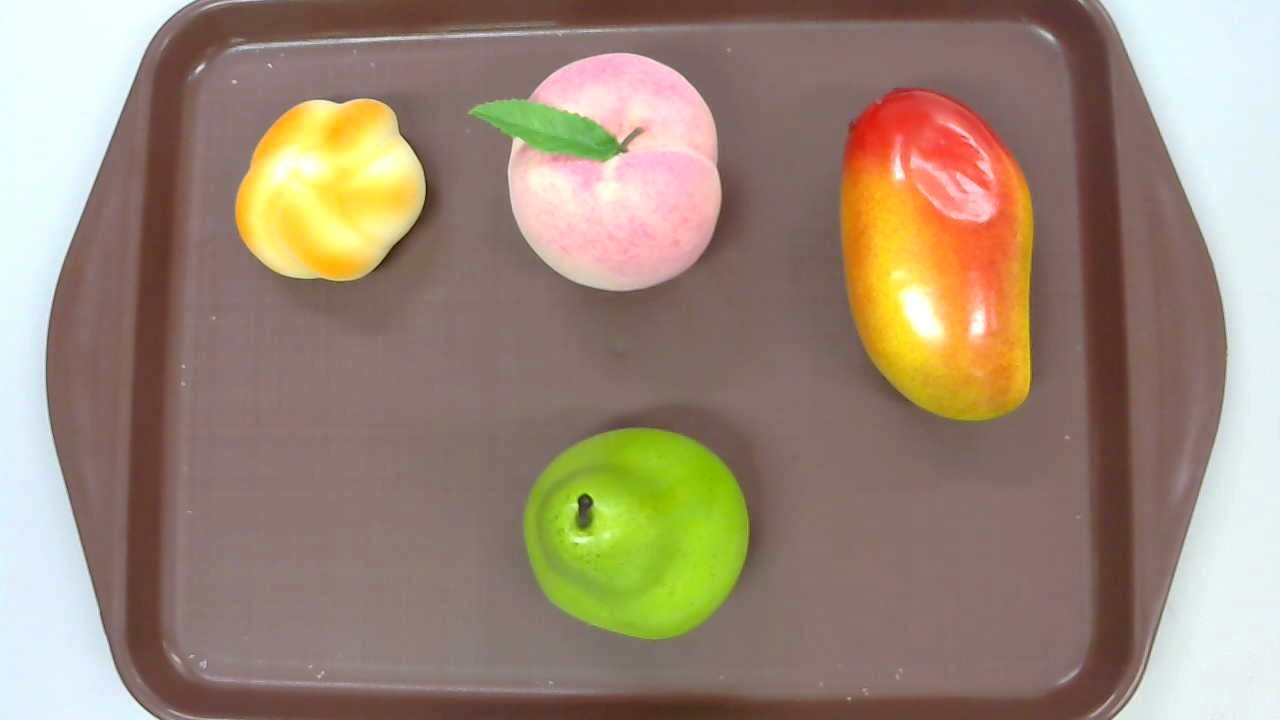green pear: (522, 428, 748, 640)
peaches: (466, 52, 721, 291)
red mango: (840, 89, 1033, 419)
twist bread: (234, 97, 425, 284)
